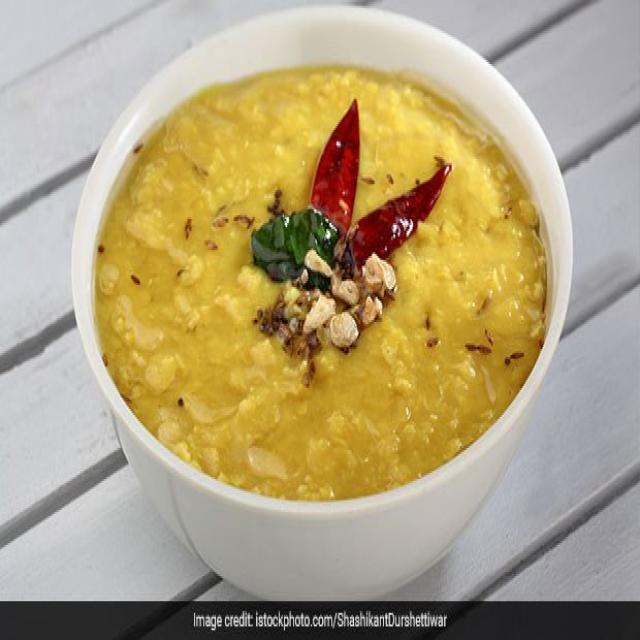dal: (108, 95, 535, 487)
